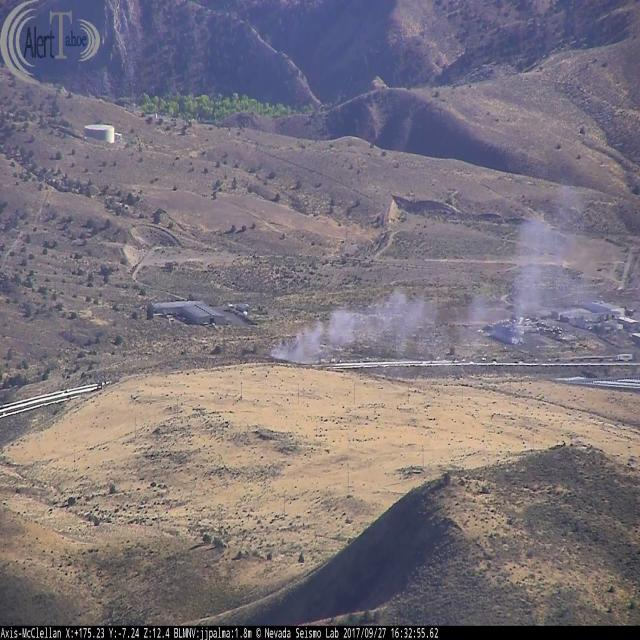smoke: (270, 187, 608, 366)
